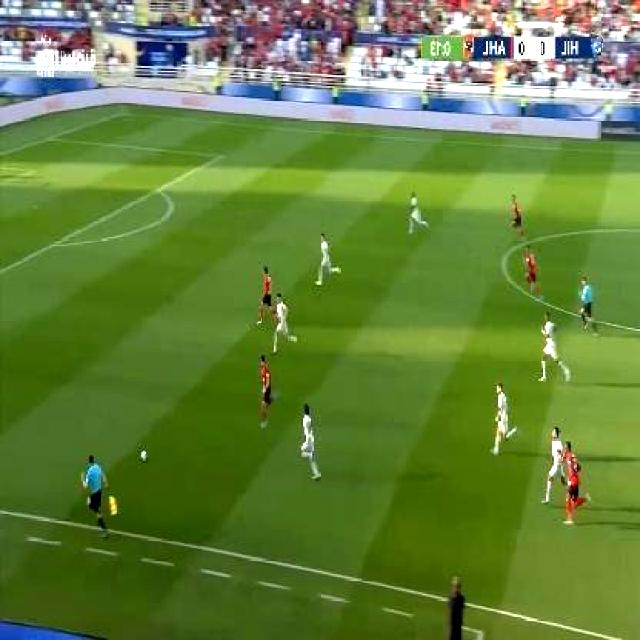bigarea_top_inner: (208, 149, 229, 166)
bigarea_top_outter: (45, 130, 60, 144)
bottom_arc_area_intersection: (50, 237, 61, 251)
corner: (108, 108, 129, 124)
top_arc_area_intersection: (154, 183, 164, 197)
